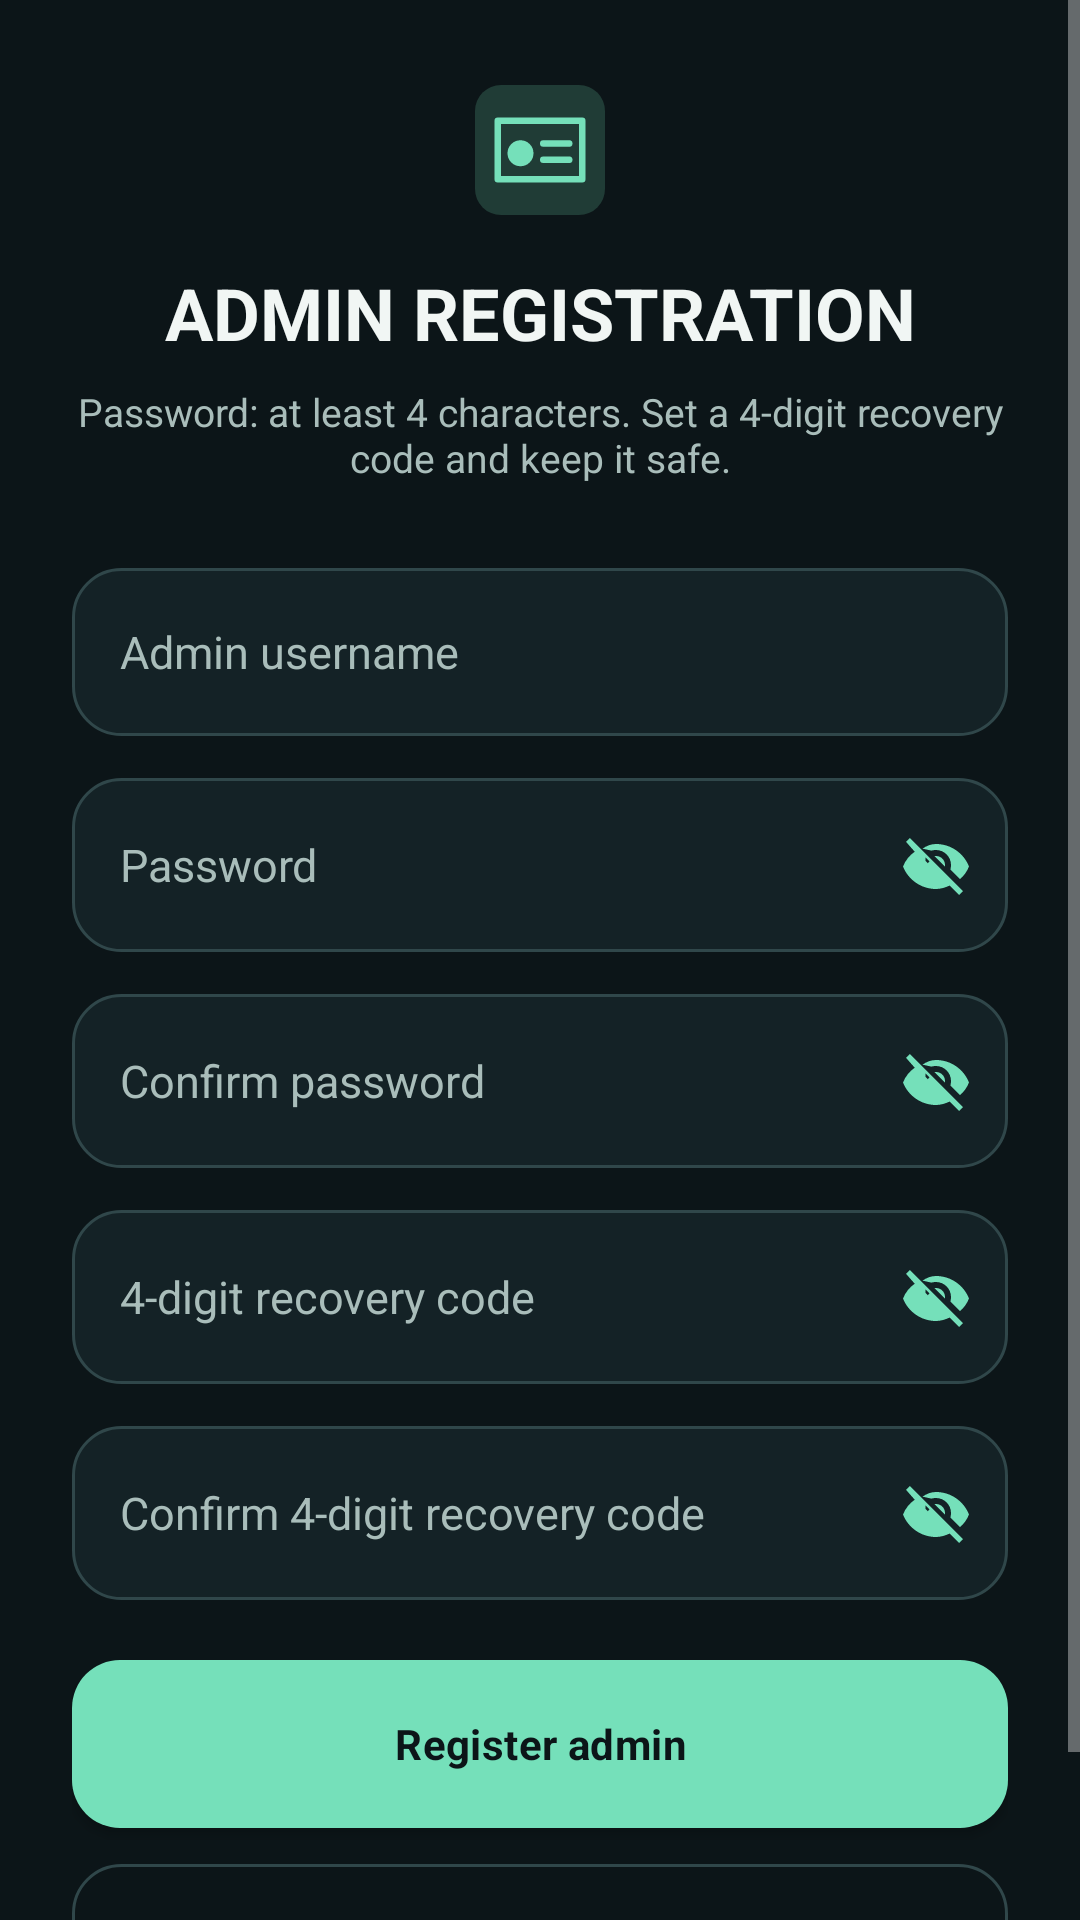

Where to tap for icons on this 1080px×1920px app screen, as (x=x, y=y):
Show recovery code: (x=936, y=1298), (x=936, y=1514)
